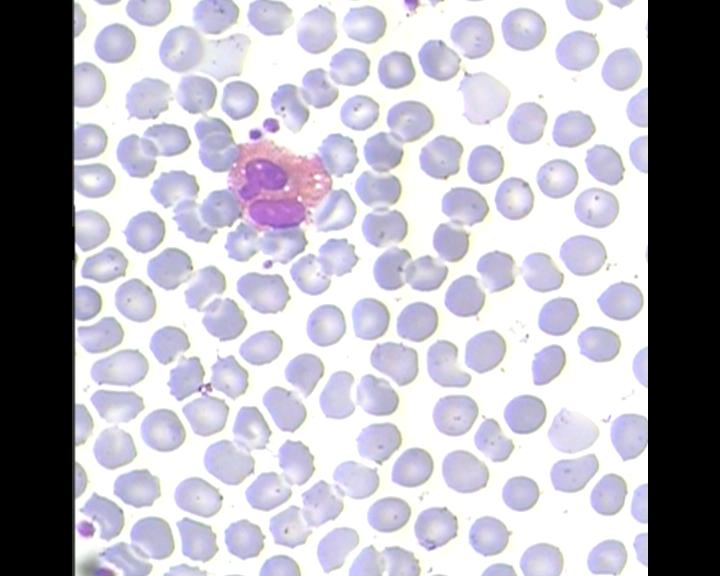eosi: (225, 135, 335, 233)
